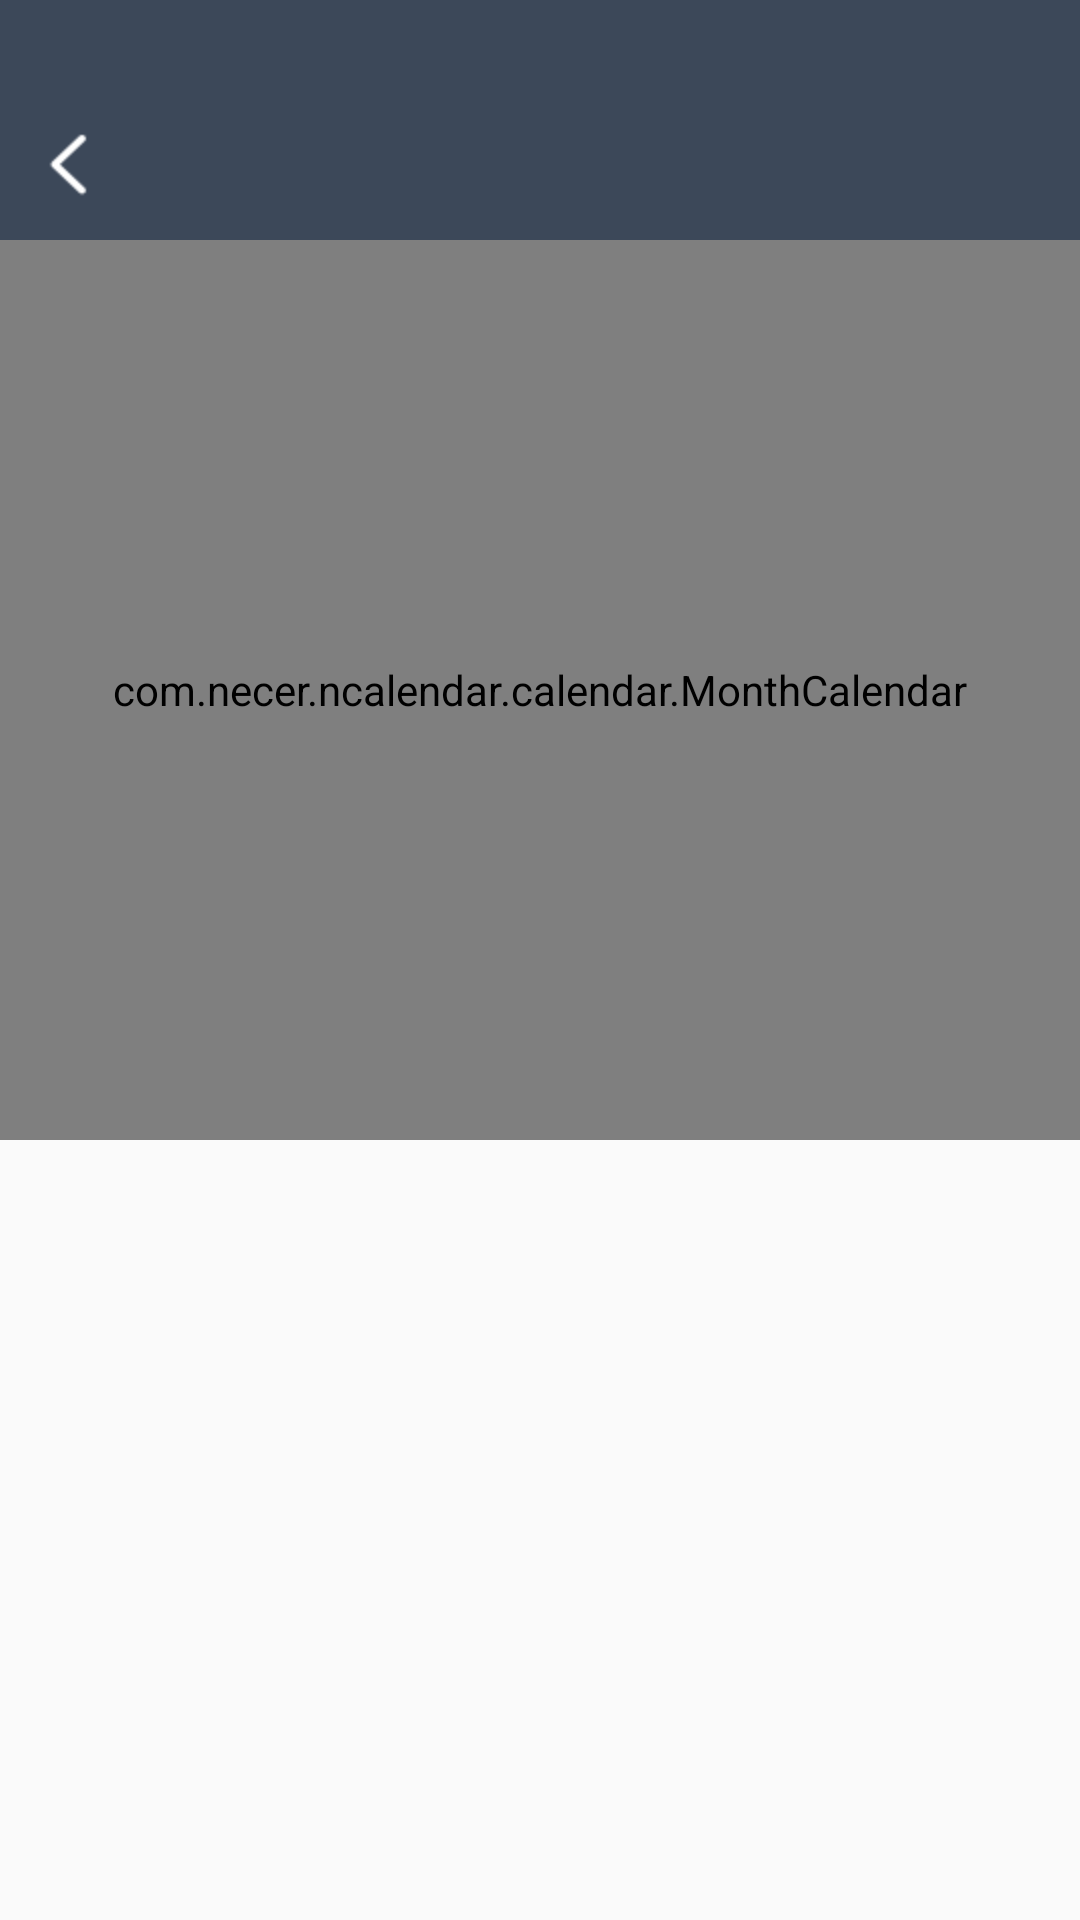

Where icons sit on this 1080px x 1920px app screen, as (x1, y1, x2, y2):
back: (50, 134, 87, 195)
